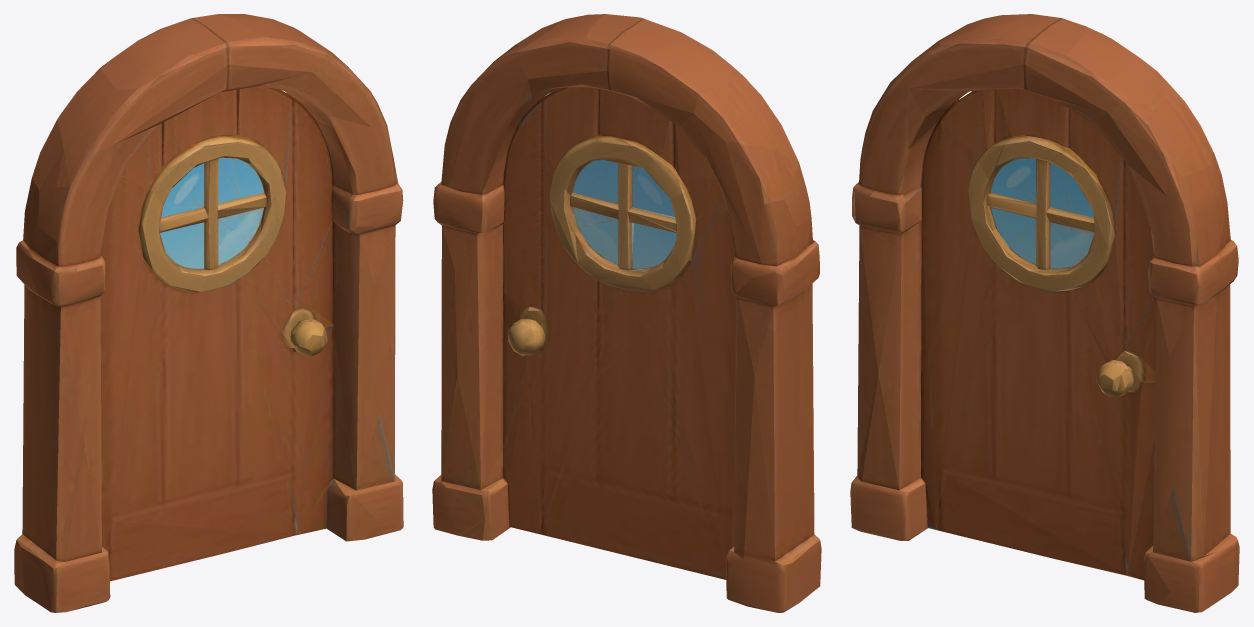
Rendered from door-basic.glb.
3 views of the same model, side by side, from view 1: azimuth 30°, elevation 25°; view 2: azimuth 150°, elevation 25°; view 3: azimuth 330°, elevation 25° (orthographic).
Parts seen in each view (by area): view 1: door-basic-fit; view 2: door-basic-fit; view 3: door-basic-fit.
Boxes of the visible parts, bbox=[...] form: door-basic-fit: bbox=[14, 14, 403, 612]; door-basic-fit: bbox=[432, 14, 821, 612]; door-basic-fit: bbox=[850, 14, 1239, 612].
Size of the model in its own units: 1.48 by 2.1 by 0.3277.
Materials: 1 (1 with a texture image).
